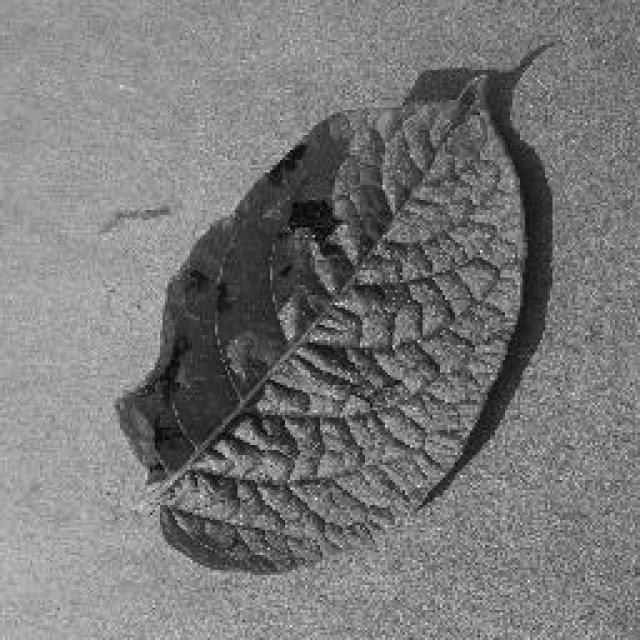Potato: (112, 37, 558, 575)
